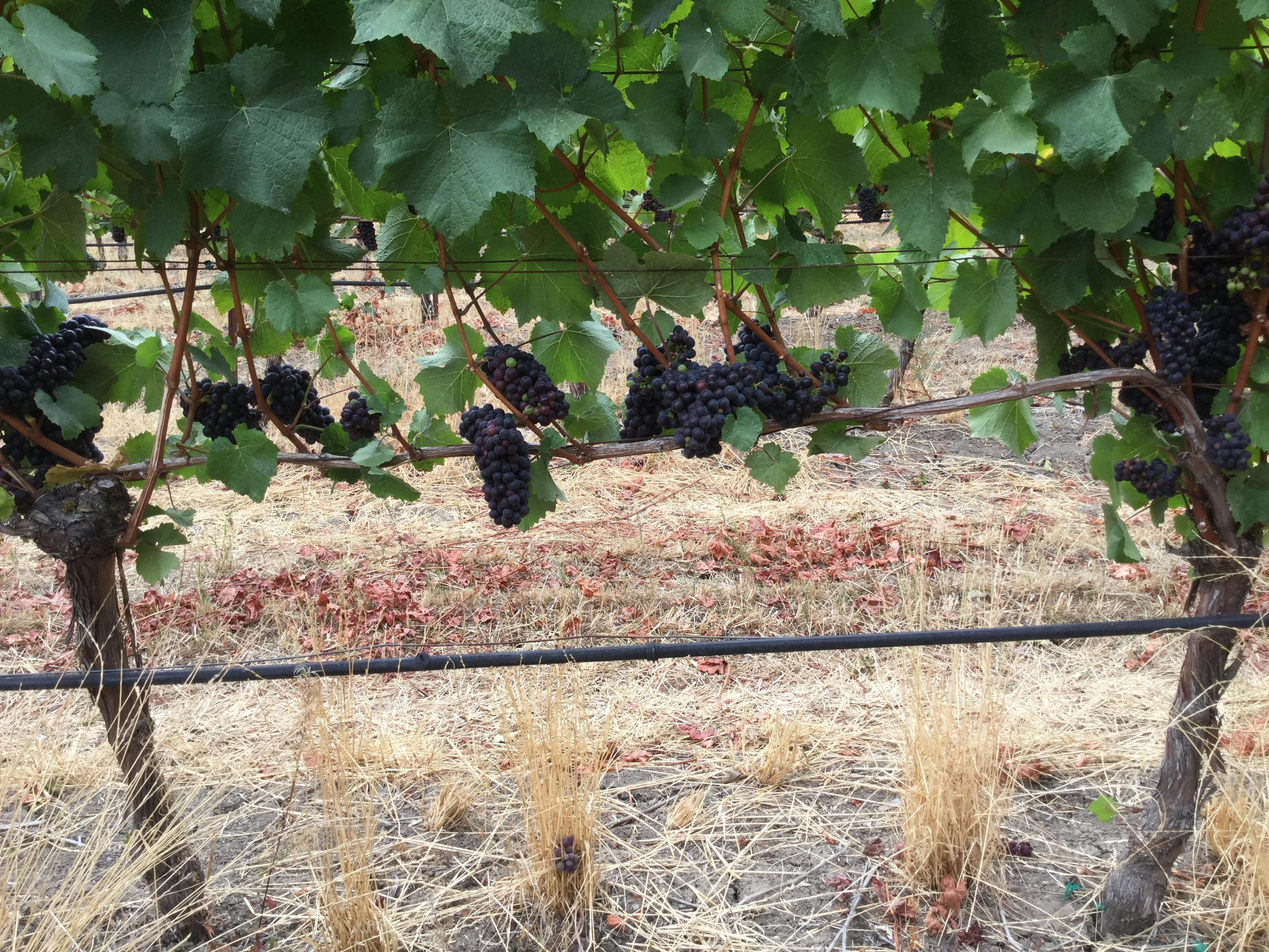leaf: (172, 47, 334, 209), (374, 81, 534, 236), (353, 0, 542, 86), (496, 26, 625, 148), (1031, 60, 1159, 167), (753, 115, 867, 232), (827, 0, 940, 115), (83, 0, 196, 104), (481, 221, 592, 325), (887, 139, 972, 252), (0, 4, 100, 95), (1054, 144, 1154, 232), (603, 243, 713, 316), (956, 69, 1037, 168), (532, 319, 620, 389), (93, 91, 177, 161), (414, 324, 479, 413), (617, 75, 690, 154), (227, 192, 315, 257), (949, 259, 1017, 343), (205, 424, 278, 502), (834, 326, 898, 407), (376, 203, 439, 281), (264, 273, 338, 336), (676, 6, 730, 82), (967, 399, 1038, 456), (517, 452, 564, 530), (870, 274, 923, 340), (1092, 0, 1171, 44), (35, 385, 100, 438), (358, 359, 407, 426), (807, 421, 886, 462), (745, 441, 799, 494), (563, 390, 619, 441), (1227, 462, 1268, 530), (685, 107, 738, 159), (309, 322, 355, 378), (135, 534, 179, 584), (720, 406, 764, 453), (788, 0, 846, 35), (362, 467, 420, 501), (351, 439, 395, 467), (970, 368, 1010, 394), (462, 327, 484, 360), (0, 487, 14, 522), (768, 209, 778, 219), (429, 285, 443, 292), (544, 430, 553, 435), (698, 152, 705, 154), (1247, 15, 1249, 18), (416, 291, 421, 292), (694, 149, 696, 151), (438, 270, 439, 273), (1204, 149, 1205, 150), (839, 14, 839, 17)
